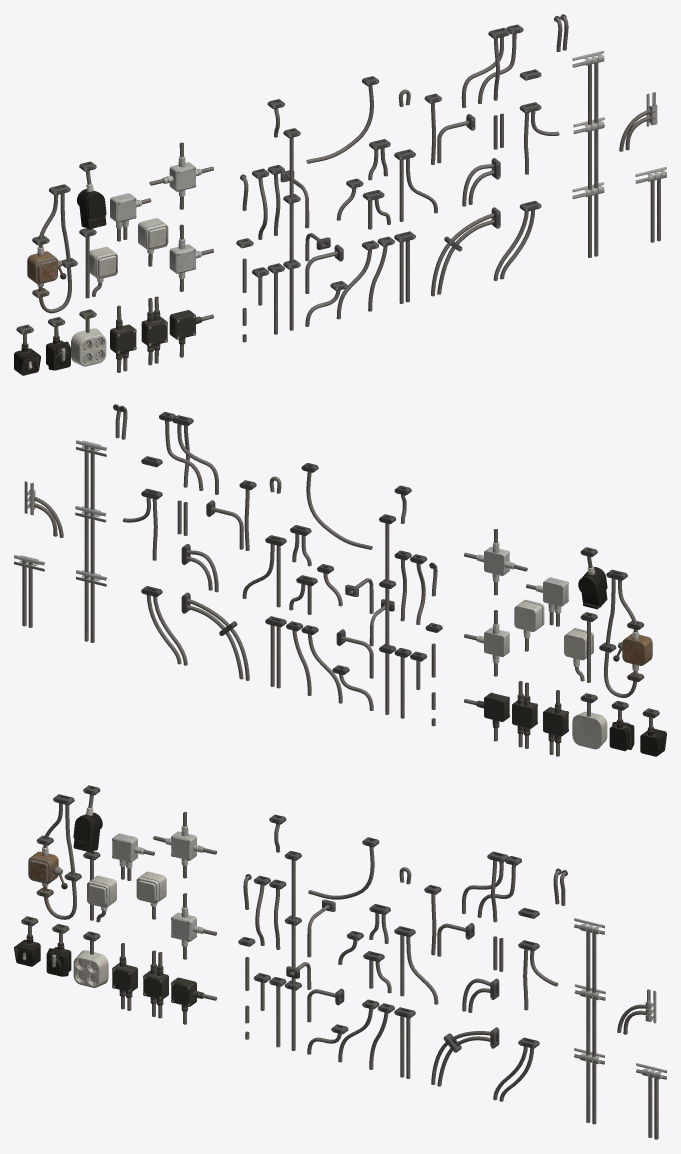
Rendered from cables.glb.
3 views of the same model, one above another, from view 1: azimuth 30°, elevation 25°; view 2: azimuth 150°, elevation 25°; view 3: azimuth 330°, elevation 25° (orthographic).
Visible parts, largest first — view 1: cable_double_alt_long, cable_switch, cable_plug_4x, cable_lightswitch_double, cable_3way_junction, cable_straight_long, cable_plug_covered_2, cable_double_turn_long, cable_box_double, cable_box_4way, cable_box_3way, cable_box_double_to_single (+14 smaller); view 2: cable_double_alt_long, cable_switch, cable_3way_junction, cable_plug_4x, cable_straight_long, cable_lightswitch_double, cable_double_turn_long, cable_plug_covered_2, cable_box_double, cable_box_4way, cable_box_double_to_single_2, cable_box_3way (+14 smaller); view 3: cable_double_alt_long, cable_switch, cable_plug_4x, cable_3way_junction, cable_straight_long, cable_plug_covered_2, cable_lightswitch_double, cable_box_4way, cable_box_double, cable_double_turn_long, cable_box_3way, cable_box_double_to_single (+14 smaller).
Boxes of the visible parts, x1=… form: cable_double_alt_long: x1=572, y1=50, x2=604, y2=257; cable_switch: x1=27, y1=184, x2=77, y2=313; cable_plug_4x: x1=71, y1=309, x2=106, y2=366; cable_lightswitch_double: x1=79, y1=228, x2=117, y2=298; cable_3way_junction: x1=461, y1=24, x2=523, y2=107; cable_straight_long: x1=283, y1=128, x2=300, y2=330; cable_plug_covered_2: x1=77, y1=161, x2=106, y2=228; cable_double_turn_long: x1=431, y1=207, x2=500, y2=296; cable_box_double: x1=141, y1=296, x2=167, y2=365; cable_box_4way: x1=149, y1=142, x2=213, y2=209; cable_box_3way: x1=169, y1=224, x2=213, y2=291; cable_box_double_to_single: x1=110, y1=305, x2=136, y2=372; cable_double_alt_long: x1=75, y1=440, x2=106, y2=642; cable_switch: x1=599, y1=569, x2=652, y2=697; cable_3way_junction: x1=159, y1=412, x2=218, y2=494; cable_plug_4x: x1=572, y1=693, x2=607, y2=749; cable_straight_long: x1=379, y1=514, x2=396, y2=714; cable_lightswitch_double: x1=564, y1=612, x2=597, y2=682; cable_double_turn_long: x1=181, y1=592, x2=249, y2=680; cable_plug_covered_2: x1=578, y1=547, x2=607, y2=609; cable_box_double: x1=512, y1=681, x2=537, y2=748; cable_box_4way: x1=464, y1=529, x2=527, y2=595; cable_box_double_to_single_2: x1=526, y1=577, x2=568, y2=626; cable_box_3way: x1=464, y1=610, x2=509, y2=676; cable_double_alt_long: x1=574, y1=918, x2=605, y2=1124; cable_switch: x1=28, y1=794, x2=81, y2=919; cable_plug_4x: x1=73, y1=931, x2=108, y2=987; cable_3way_junction: x1=462, y1=851, x2=521, y2=922; cable_straight_long: x1=284, y1=851, x2=301, y2=1050; cable_plug_covered_2: x1=73, y1=785, x2=102, y2=852; cable_lightswitch_double: x1=83, y1=851, x2=116, y2=922; cable_box_4way: x1=153, y1=812, x2=216, y2=878; cable_box_double: x1=143, y1=950, x2=168, y2=1018; cable_double_turn_long: x1=431, y1=1027, x2=499, y2=1086; cable_box_3way: x1=171, y1=893, x2=216, y2=959; cable_box_double_to_single: x1=112, y1=943, x2=137, y2=1010.
Bounding box in the file's own units: 2.08 × 0.7573 × 0.2145.
Materials: 2 (2 with a texture image).
